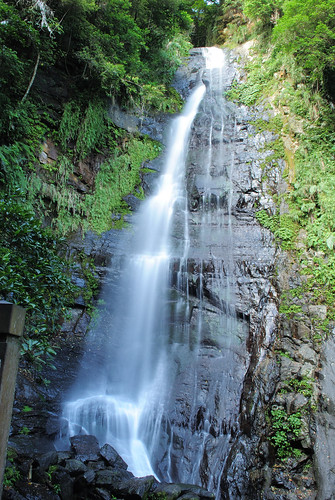wufengciWaterfall: (60, 34, 285, 486)
